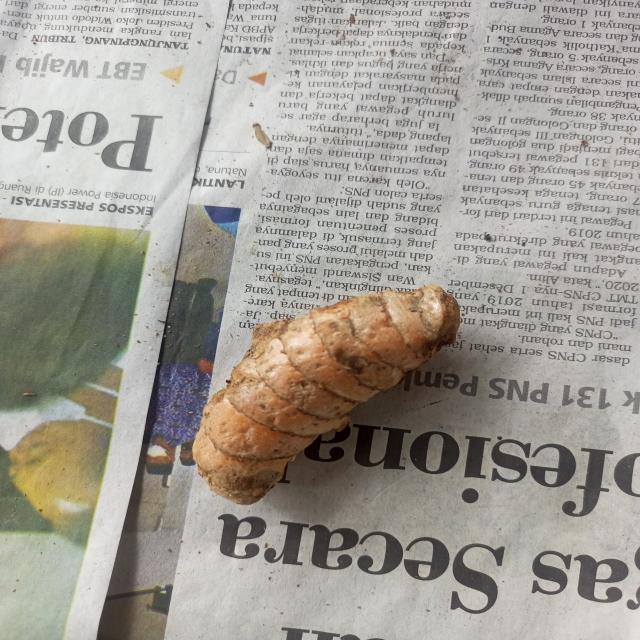ginger: (194, 290, 468, 494)
